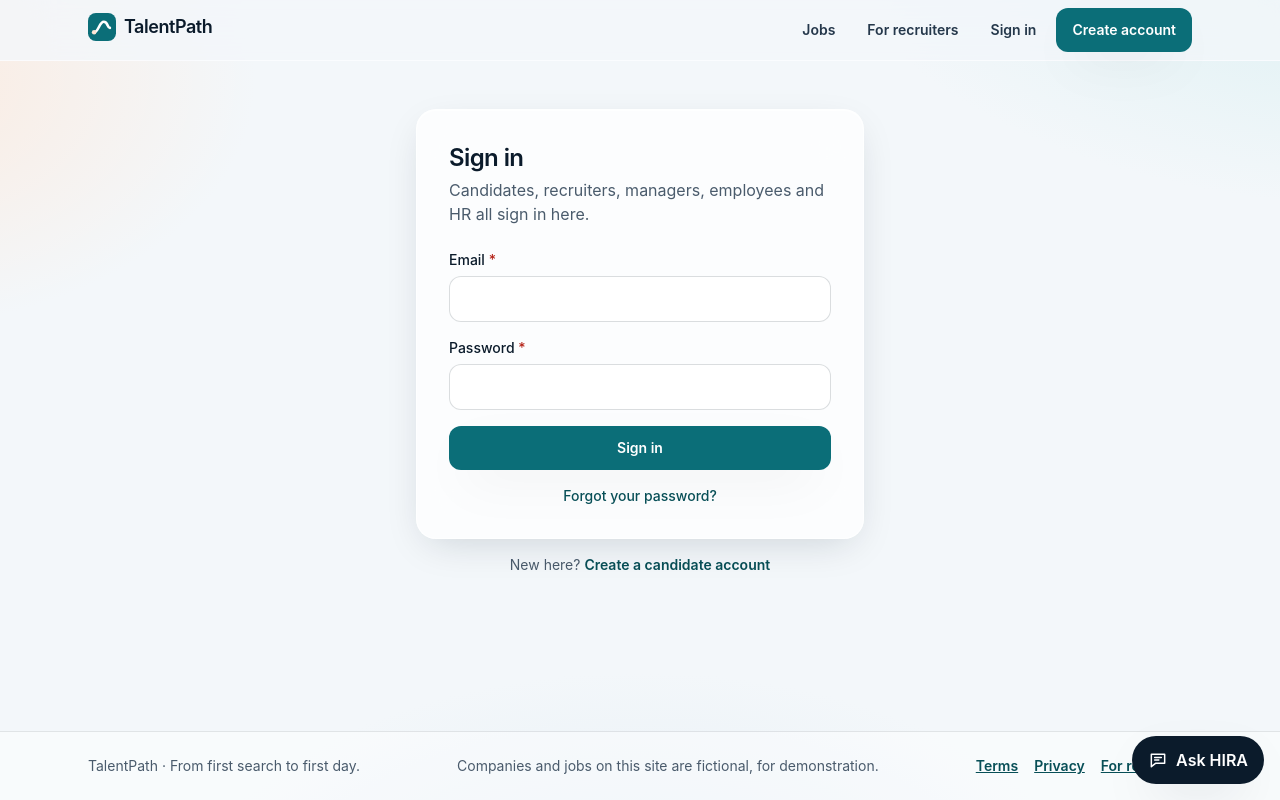
Test: form validation › login rejects a malformed email
Type "not-an-email" into the field labelled "Email *" at (640, 299), box x1=449 y1=276 x2=831 y2=322
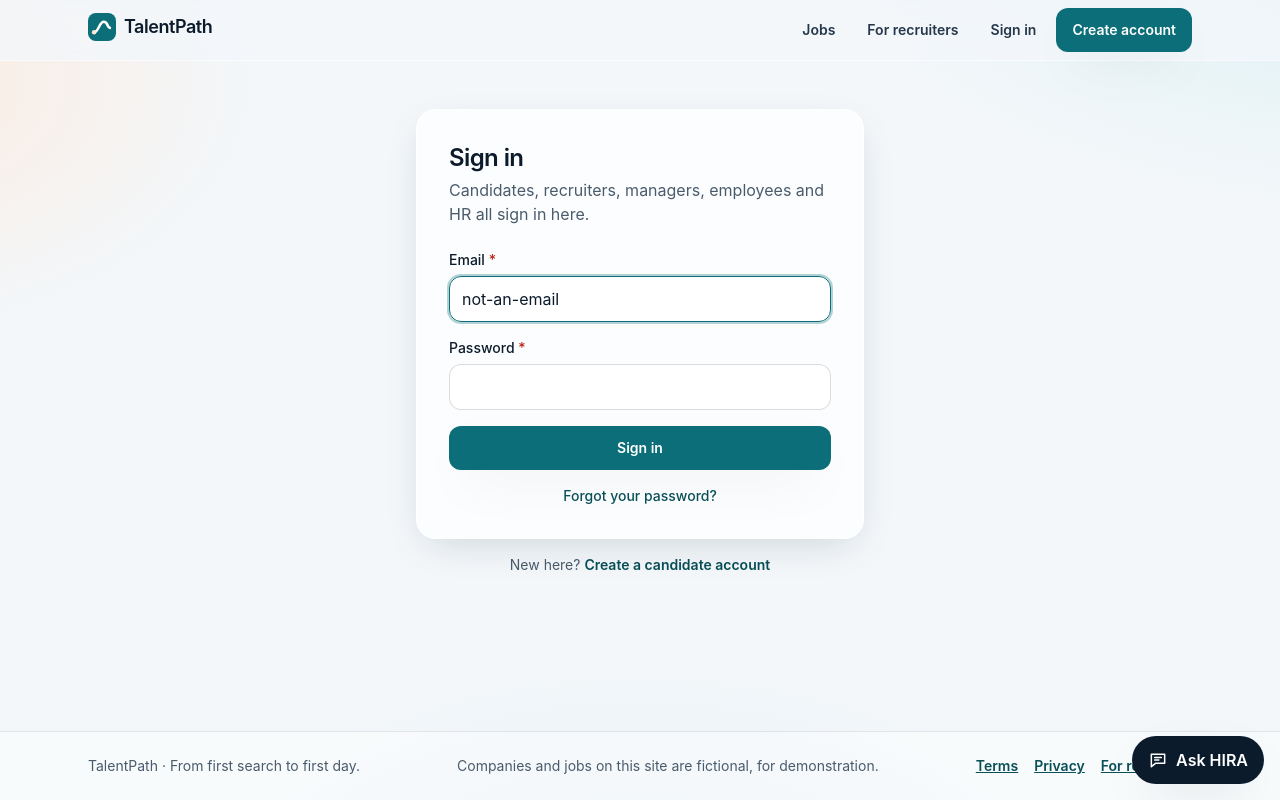
Type "whatever" into the password field labelled "Password *" at (640, 387), box x1=449 y1=364 x2=831 y2=410
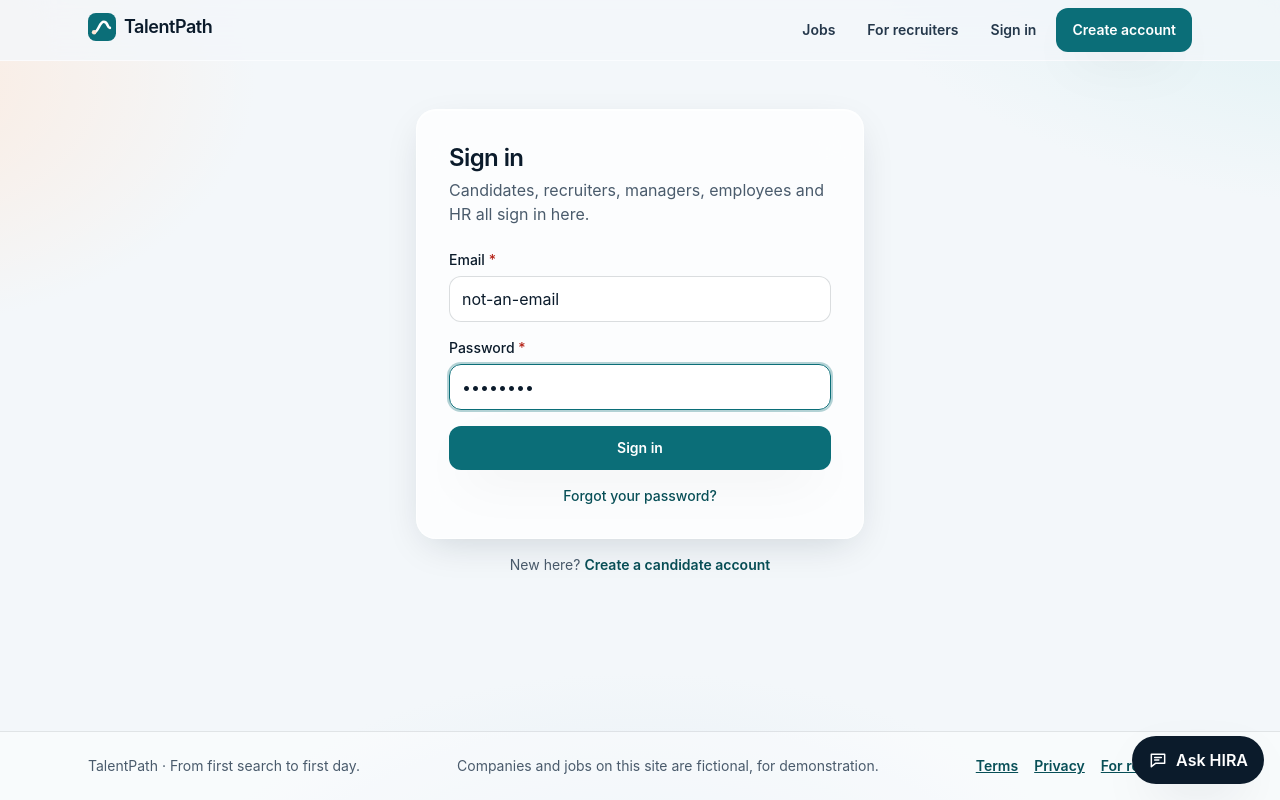
Click the button "Sign in" at (640, 448), box x1=449 y1=426 x2=831 y2=470
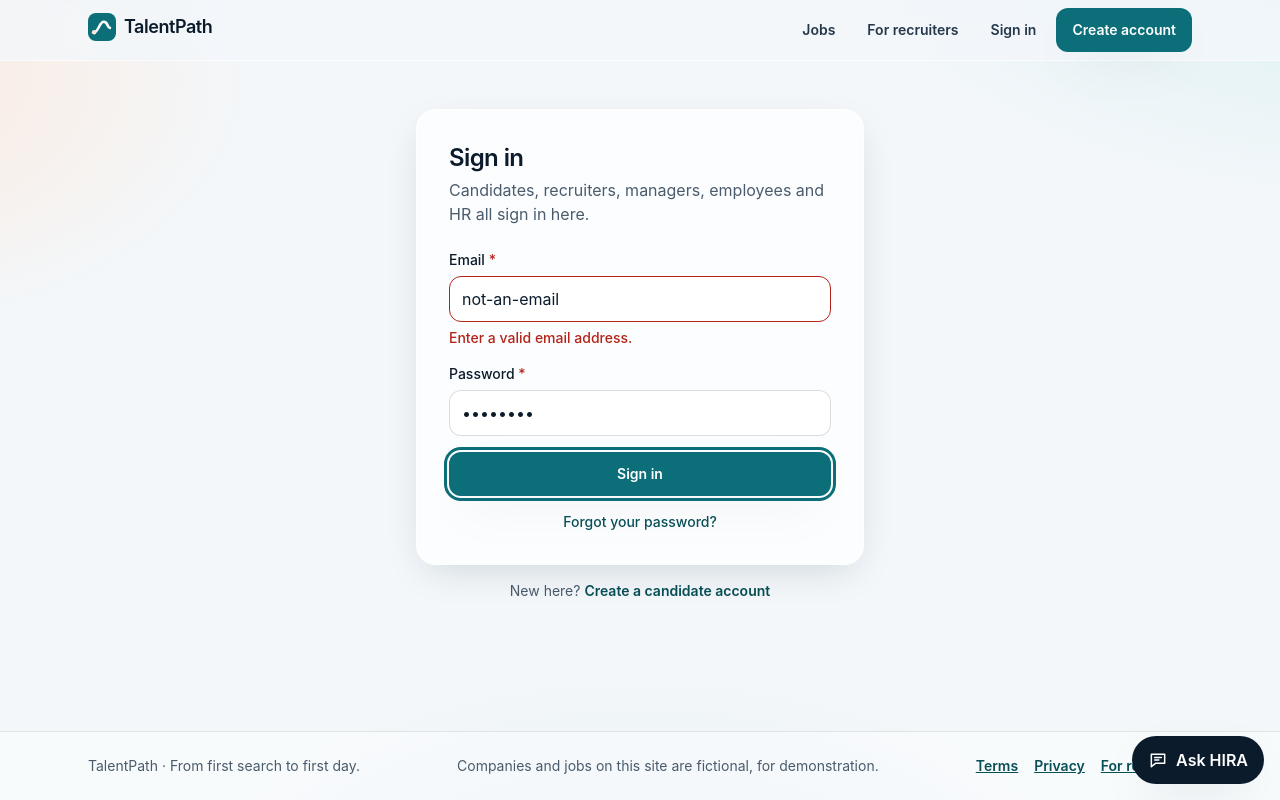
Expected: the text "Enter a valid email address." is shown, x1=449 y1=329 x2=632 y2=346
